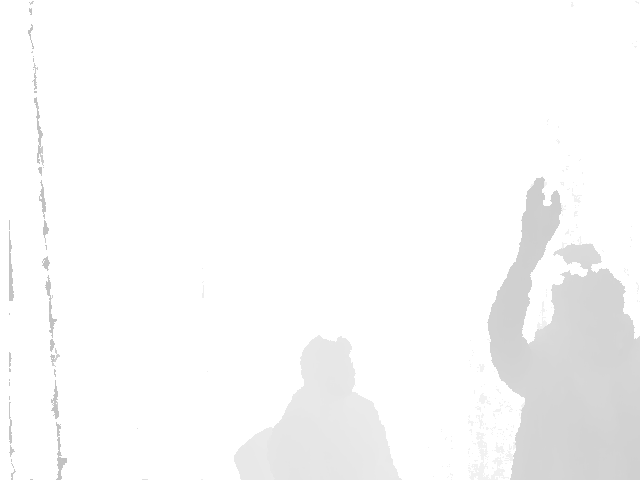hand: (519, 178, 561, 257)
head: (549, 242, 626, 343), (300, 334, 356, 396)
person: (485, 178, 640, 480), (263, 334, 403, 480)
